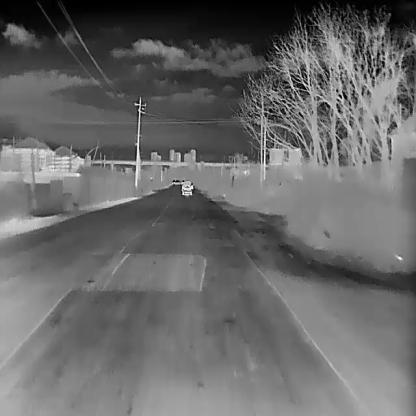car: (181, 180, 193, 195), (171, 178, 176, 184)
